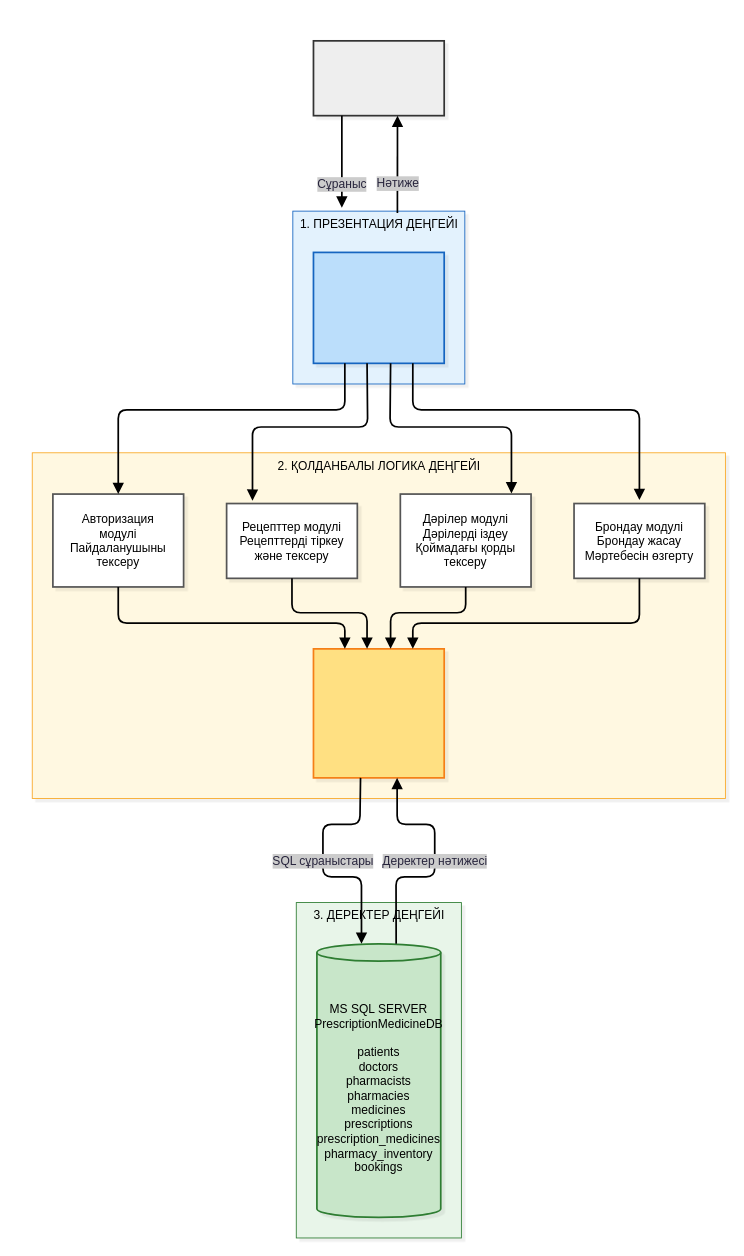
This 744x1256 diagram has some shape labels left out. The shapes that lost their labels are listed below. From the top down, each one's centre as x and y in pixels, then its label:
point (380, 80): ПАЙДАЛАНУШЫЛАР Пациент | Дәрігер | Фармацевт
point (380, 309): Веб-интерфейс Жүйеге кіру Дәрілерді іздеу Рецепттерді қарау Дәрілерді брондау
point (380, 715): Деректерге қол жеткізу SQL сұраныстарын орындау Деректерді оқу және жаңарту
